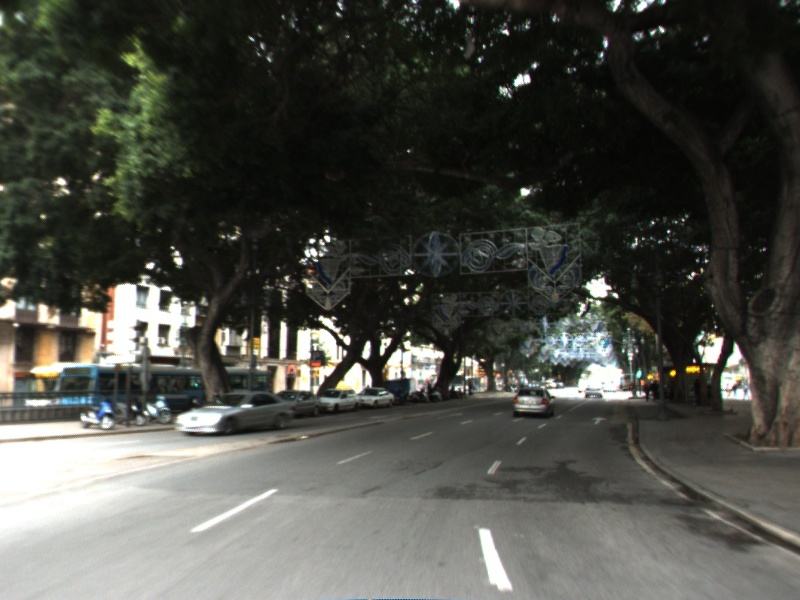STRAIGHT: (589, 414, 610, 426)
